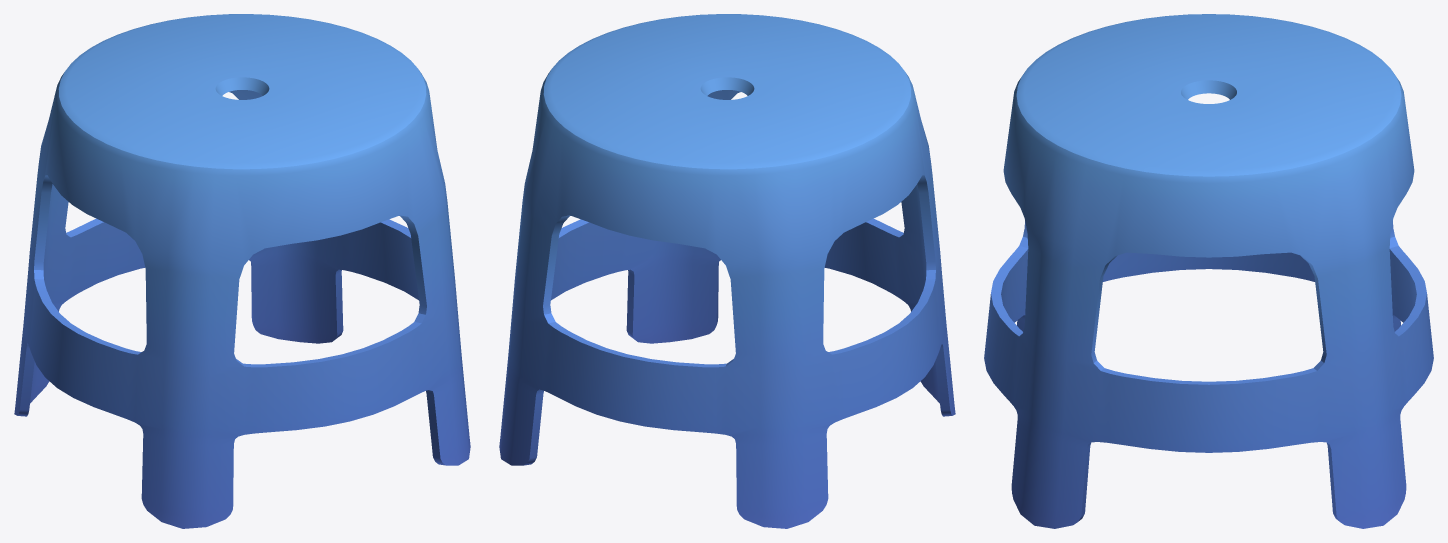
File: Chair.fbx
3 views of the same model, side by side, from view 1: azimuth 30°, elevation 25°; view 2: azimuth 150°, elevation 25°; view 3: azimuth 270°, elevation 25° (orthographic). The views are drawn at different scales.
Visible parts, largest first — view 1: Chair; view 2: Chair; view 3: Chair.
Boxes of the visible parts, x1,y1,x2,y2 form: Chair: [14, 14, 470, 528]; Chair: [499, 14, 955, 528]; Chair: [984, 14, 1433, 528].
Size of the model in its own units: 90 by 80.17 by 90.37.
